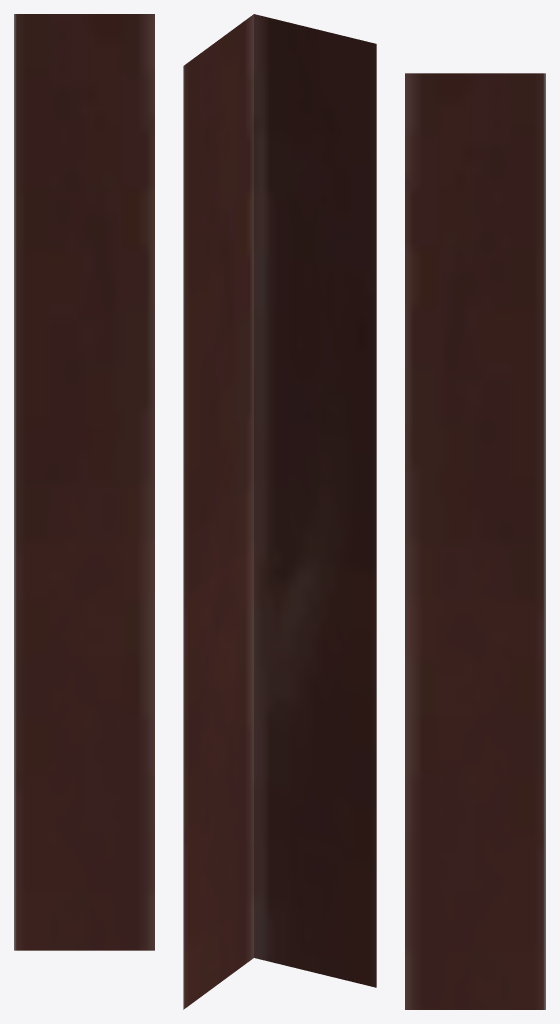
The model's file is lava_half_convex_03.fbx.
3 views of the same model, side by side, from view 1: azimuth 90°, elevation 25°; view 2: azimuth 150°, elevation 25°; view 3: azimuth 270°, elevation 25° (orthographic).
Visible parts, largest first — view 1: lava_tileset/trim_alpha_filler_depth_write; view 2: lava_tileset/trim_alpha_filler_depth_write; view 3: lava_tileset/trim_alpha_filler_depth_write.
Boxes of the visible parts, x1,y1,x2,y2 form: lava_tileset/trim_alpha_filler_depth_write: (14,14,154,950); lava_tileset/trim_alpha_filler_depth_write: (183,14,376,1009); lava_tileset/trim_alpha_filler_depth_write: (405,73,545,1009).
Size of the model in its own units: 0.374 by 2.75 by 0.375.
